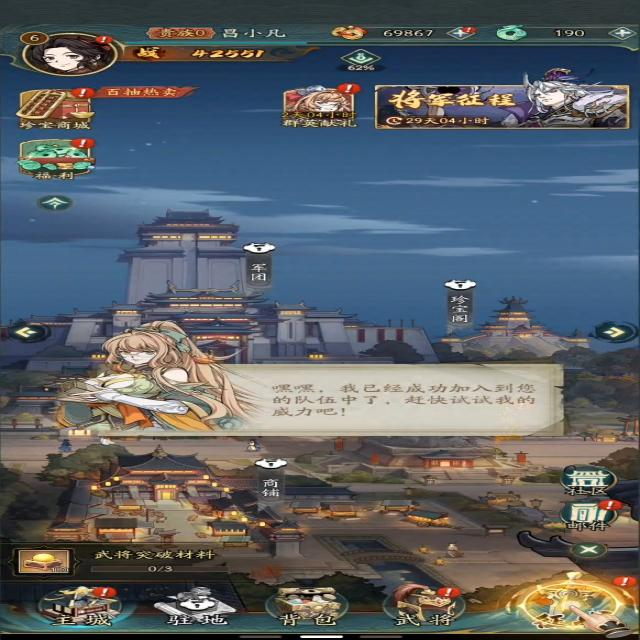hint-guide: (64, 325, 571, 443), (526, 582, 632, 637)
hint-reddot: (592, 498, 628, 512), (337, 80, 367, 96), (608, 574, 640, 588), (70, 136, 99, 151), (70, 85, 95, 102), (434, 584, 463, 598), (90, 586, 120, 598), (93, 32, 114, 46), (460, 24, 478, 34)
navigation-bag: (260, 583, 362, 629)
navigation-community: (554, 462, 620, 496)
navigation-fight: (504, 570, 640, 631)
navigation-hero: (380, 581, 469, 628)
navigation-juntuan-off: (235, 241, 279, 288)
navigation-mail: (560, 499, 618, 531)
navigation-main: (29, 583, 131, 631)
navigation-role: (17, 27, 130, 77)
navigation-shop-off: (250, 456, 288, 504)
navigation-station-off: (154, 583, 241, 630)
navigation-treasureMall: (12, 85, 101, 132)
navigation-welfare: (13, 135, 104, 183)
navigation-zhenbaoge-off: (441, 277, 477, 325)
operation-close: (568, 540, 608, 562)
